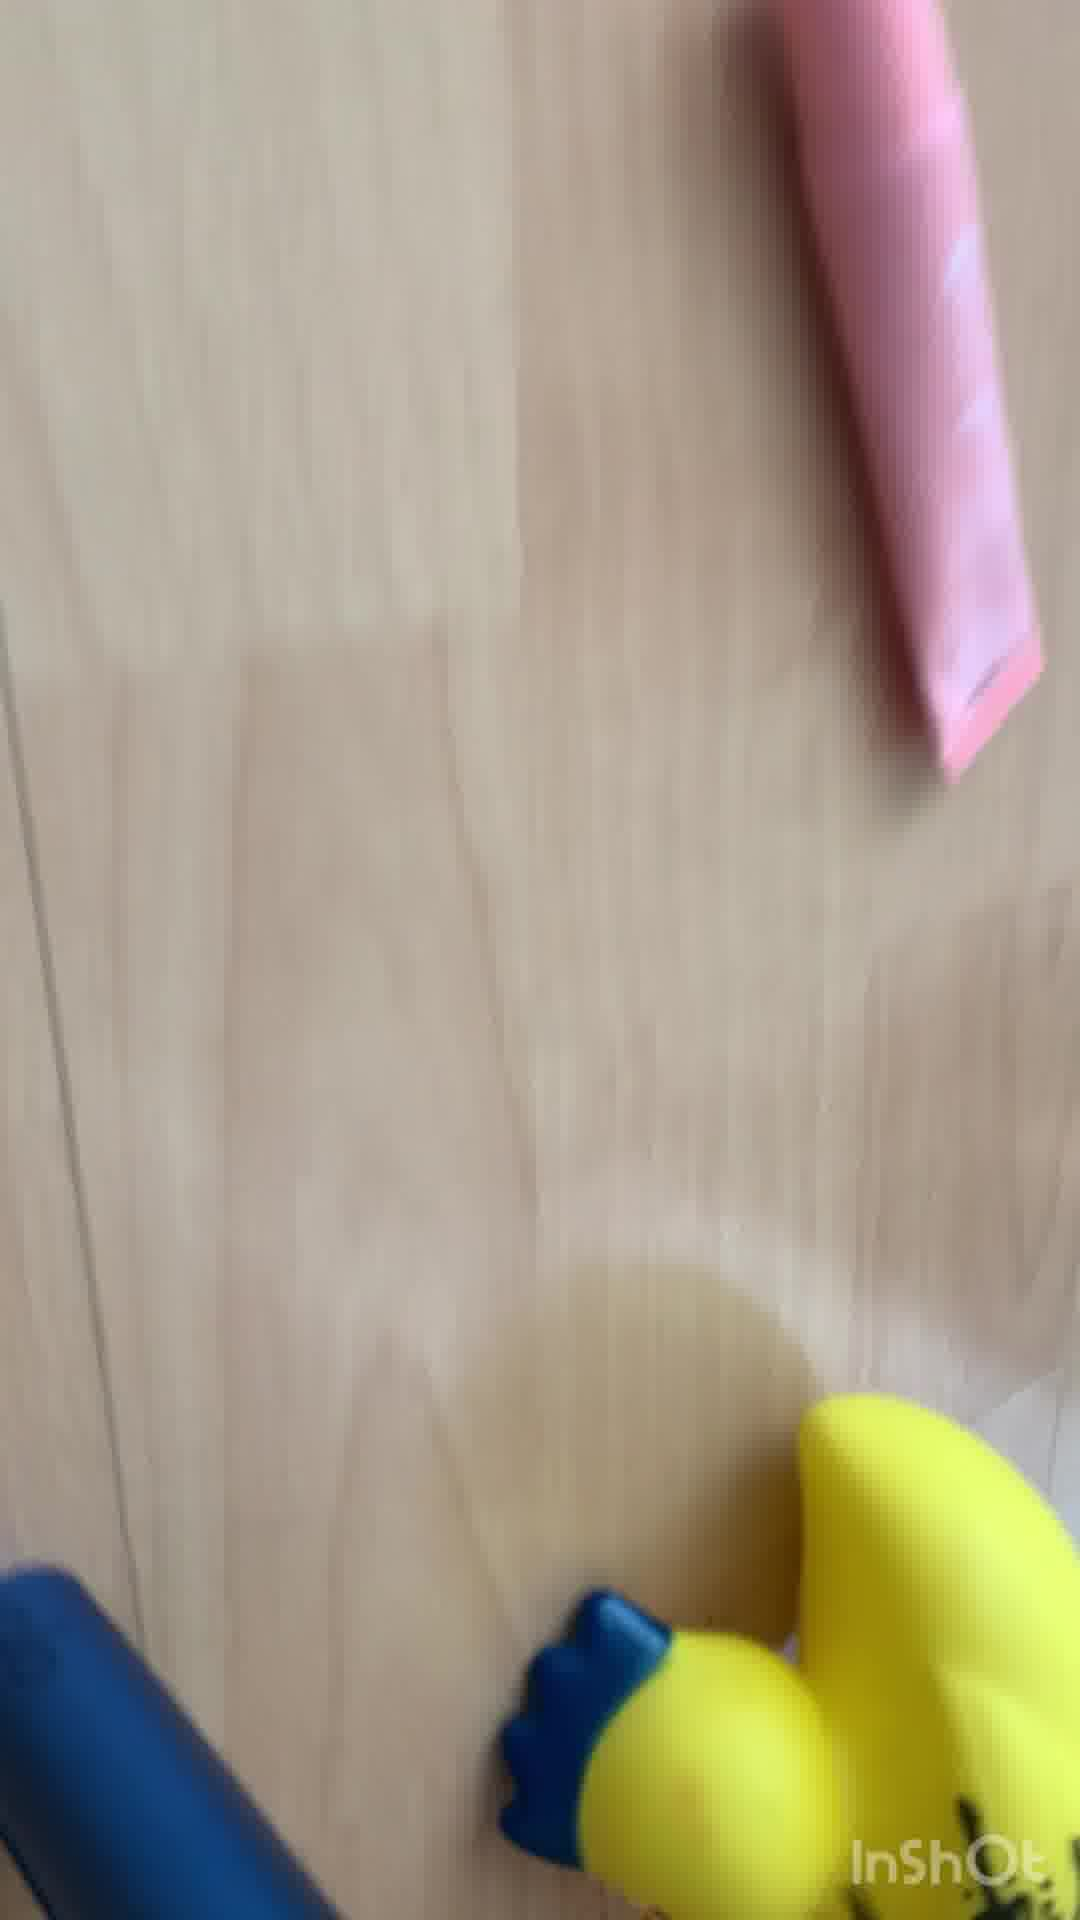duck: (500, 1395, 1080, 1920)
glo: (1, 1528, 382, 1920)
lip balm: (762, 1, 1056, 781)
